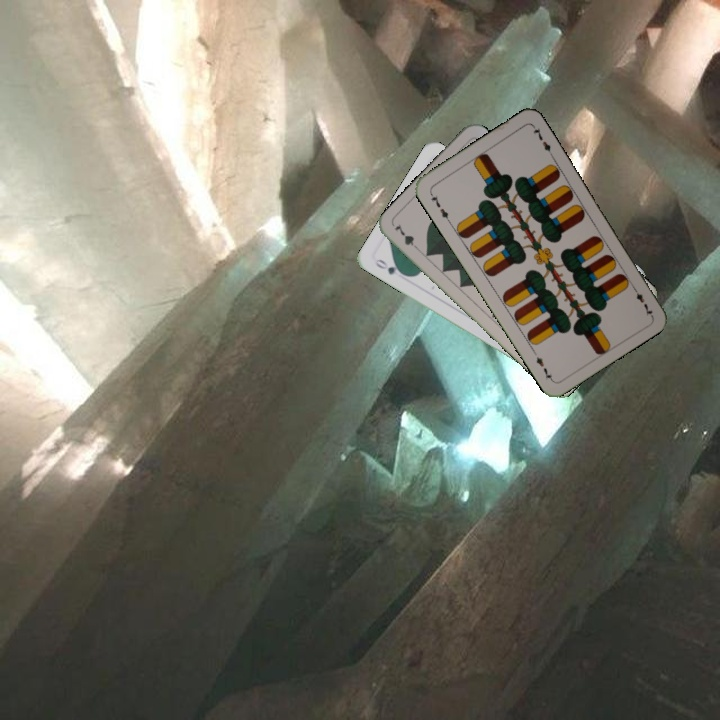E7: (426, 188, 453, 224), (628, 282, 655, 318)
G7: (390, 219, 423, 254)
GO: (371, 255, 409, 278)
